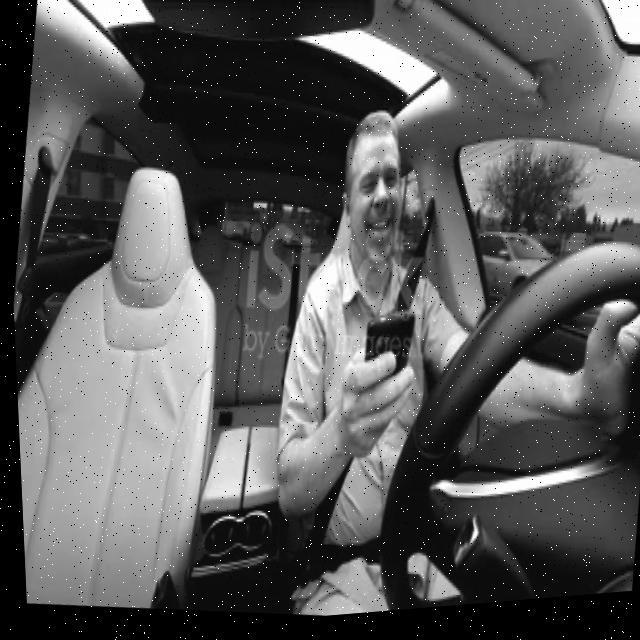PhoneCall: (354, 313, 414, 417)
